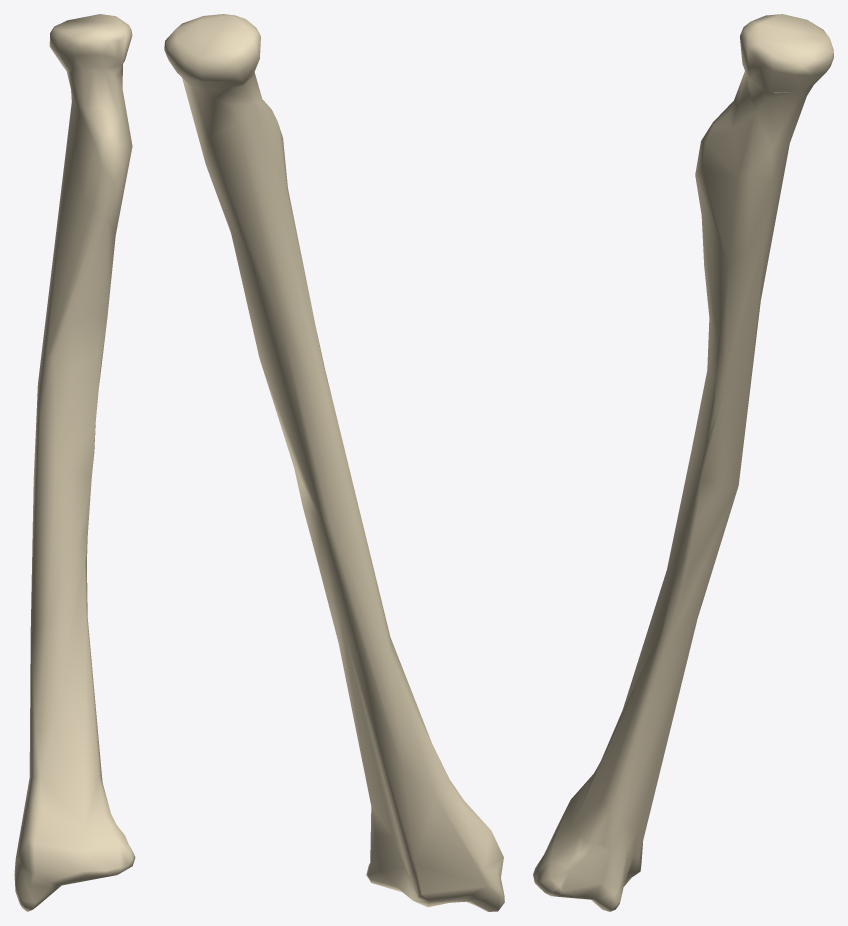
The model's file is esqueleto-radius-r.glb.
3 renders of one model, left to right at view 1: azimuth 30°, elevation 25°; view 2: azimuth 150°, elevation 25°; view 3: azimuth 270°, elevation 25°, orthographic. The views are drawn at different scales.
Parts seen in each view (by area): view 1: Radius.r; view 2: Radius.r; view 3: Radius.r.
Part boxes in pixels (left/top/right/bottom): Radius.r: left=14, top=14, right=135, bottom=911; Radius.r: left=164, top=14, right=504, bottom=911; Radius.r: left=533, top=14, right=833, bottom=911.
Size of the model in its own units: 0.0616 by 0.2368 by 0.0687.
